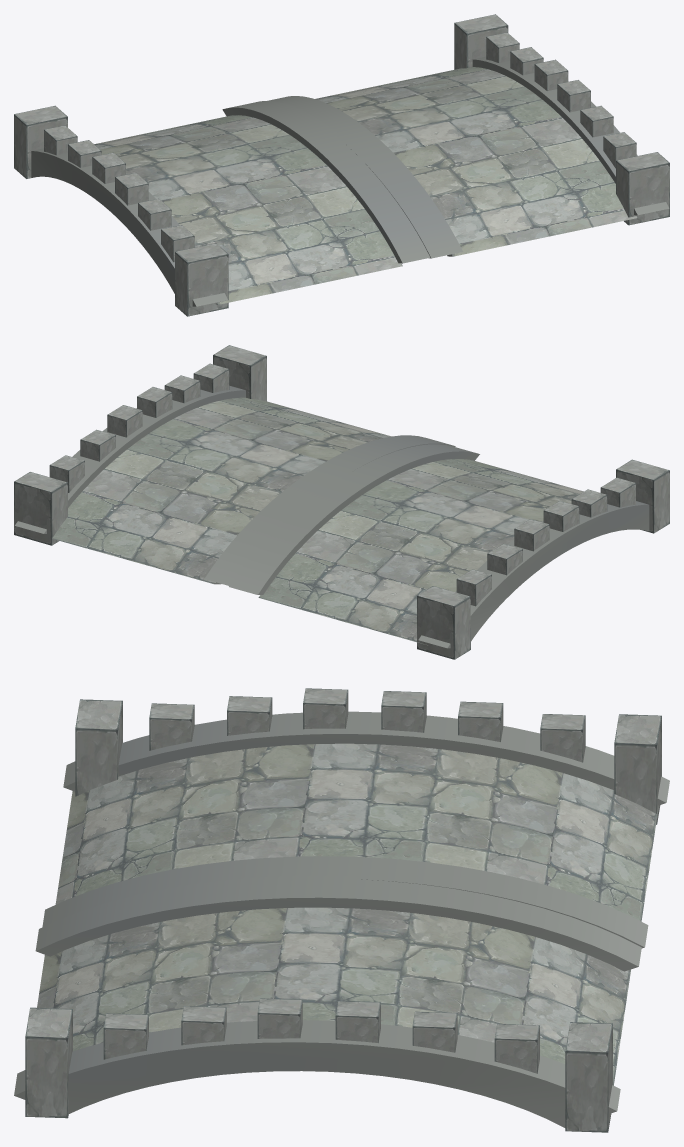
Rendered from bridge.FBX.
3 renders of one model, top to bottom at view 1: azimuth 30°, elevation 25°; view 2: azimuth 150°, elevation 25°; view 3: azimuth 270°, elevation 25°, orthographic. The views are drawn at different scales.
Parts seen in each view (by area): view 1: temp; view 2: temp; view 3: temp.
Boxes of the visible parts, bbox=[...] form: temp: bbox=[14, 14, 669, 316]; temp: bbox=[14, 345, 669, 659]; temp: bbox=[14, 688, 669, 1132].
Size of the model in its own units: 13.28 by 1.81 by 10.43.
Materials: 1 (1 with a texture image).
